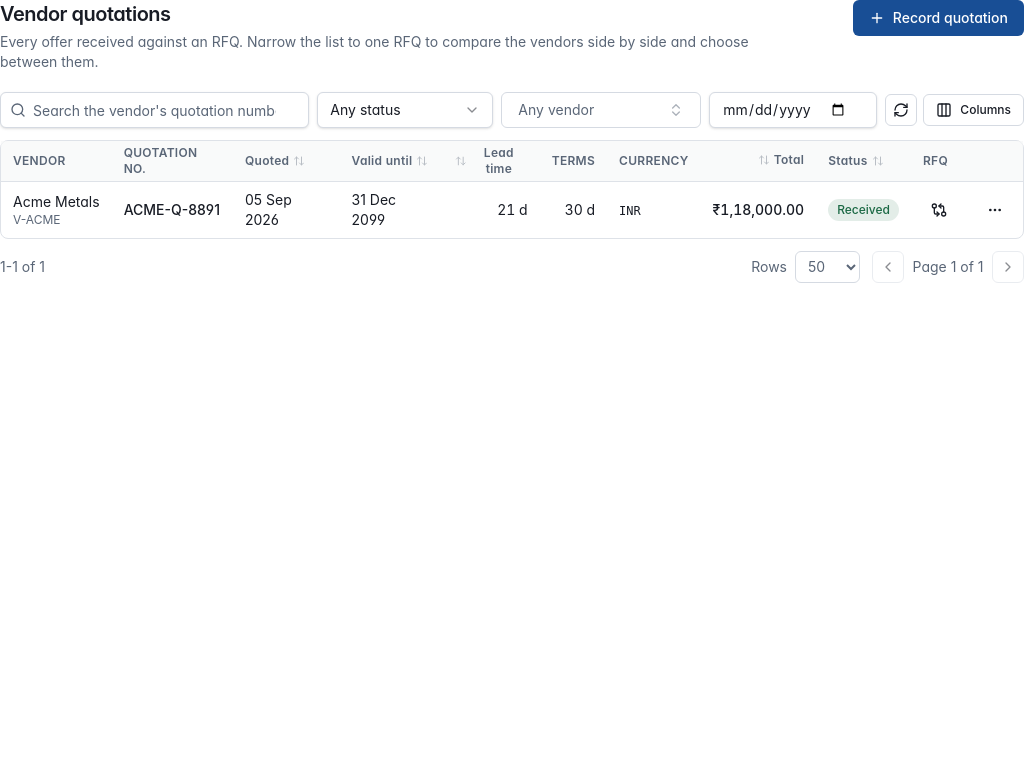
it: the buying decision › will not select without the reason the API records
Click the button "ACME-Q-8891" at (172, 210), box [124,200,220,220]
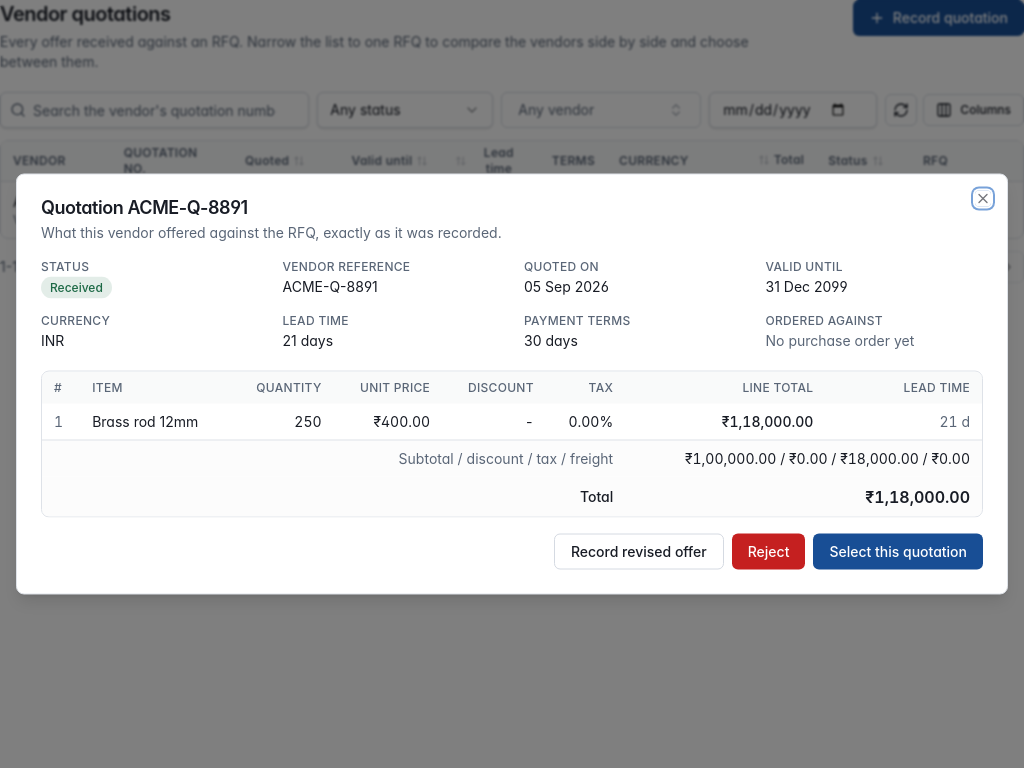
Check: the dialog is shown, box [16,174,1008,594]
Click the button "Select this quotation" at (898, 552), box [813,534,983,570]
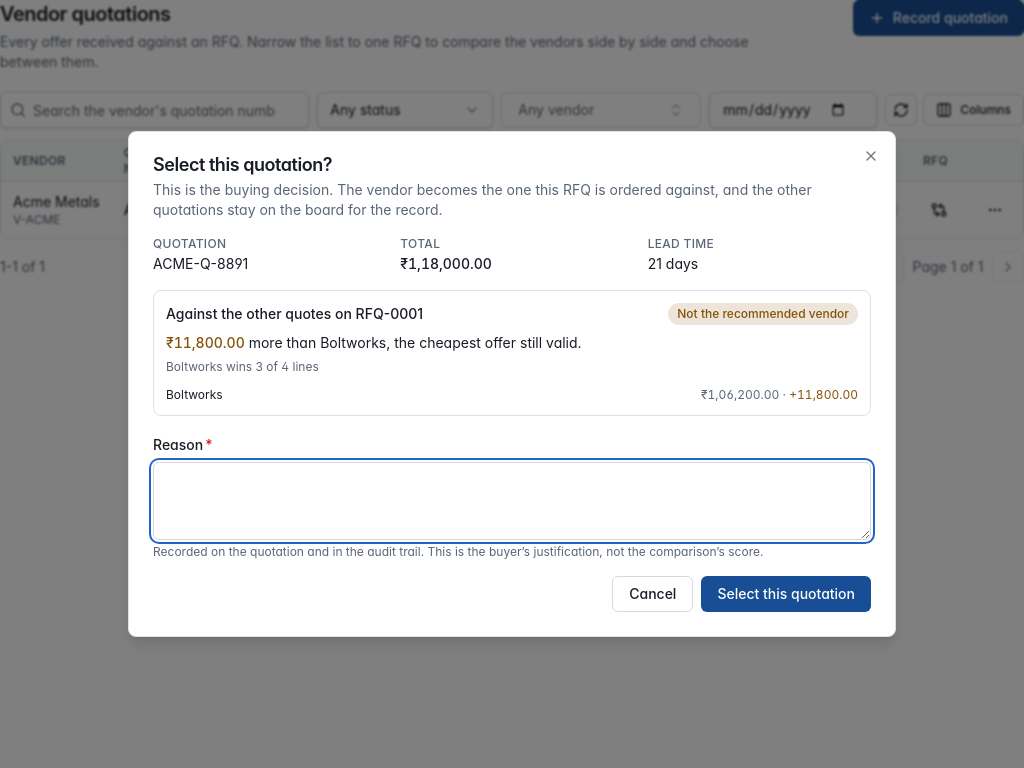
Check: the button "Select this quotation" is shown
Click the button "Select this quotation" at (786, 594), box [701,576,871,612]
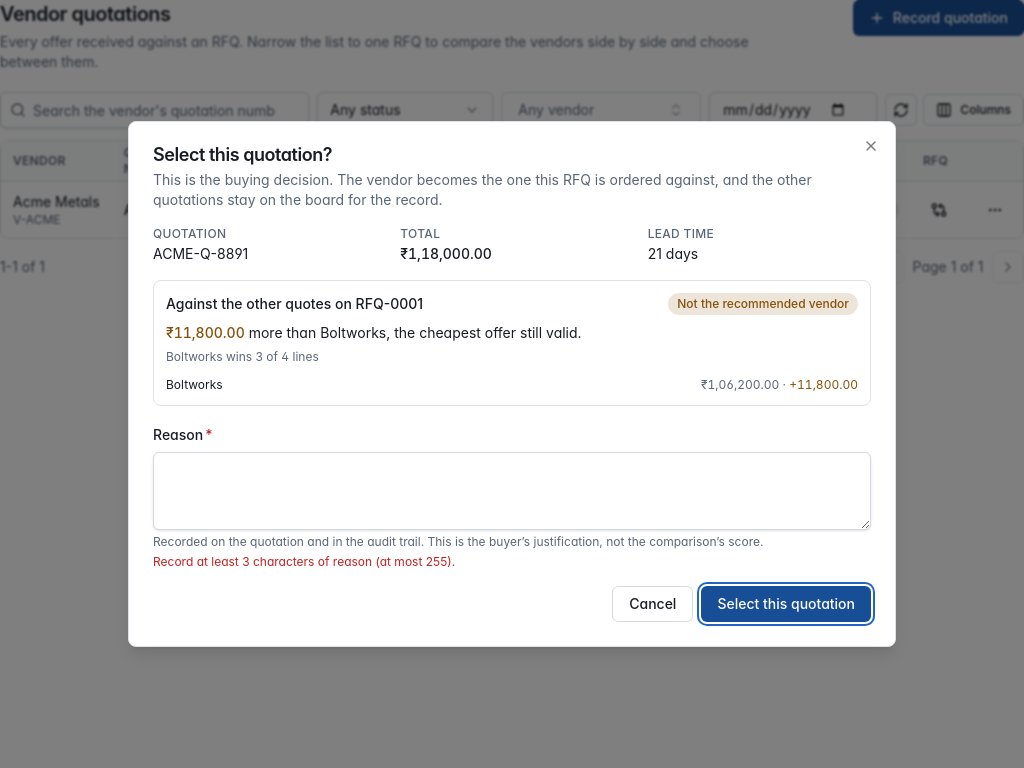
Check: the text "Record at least 3 characters of reason (at most 255)." is shown, box [153,554,455,569]
